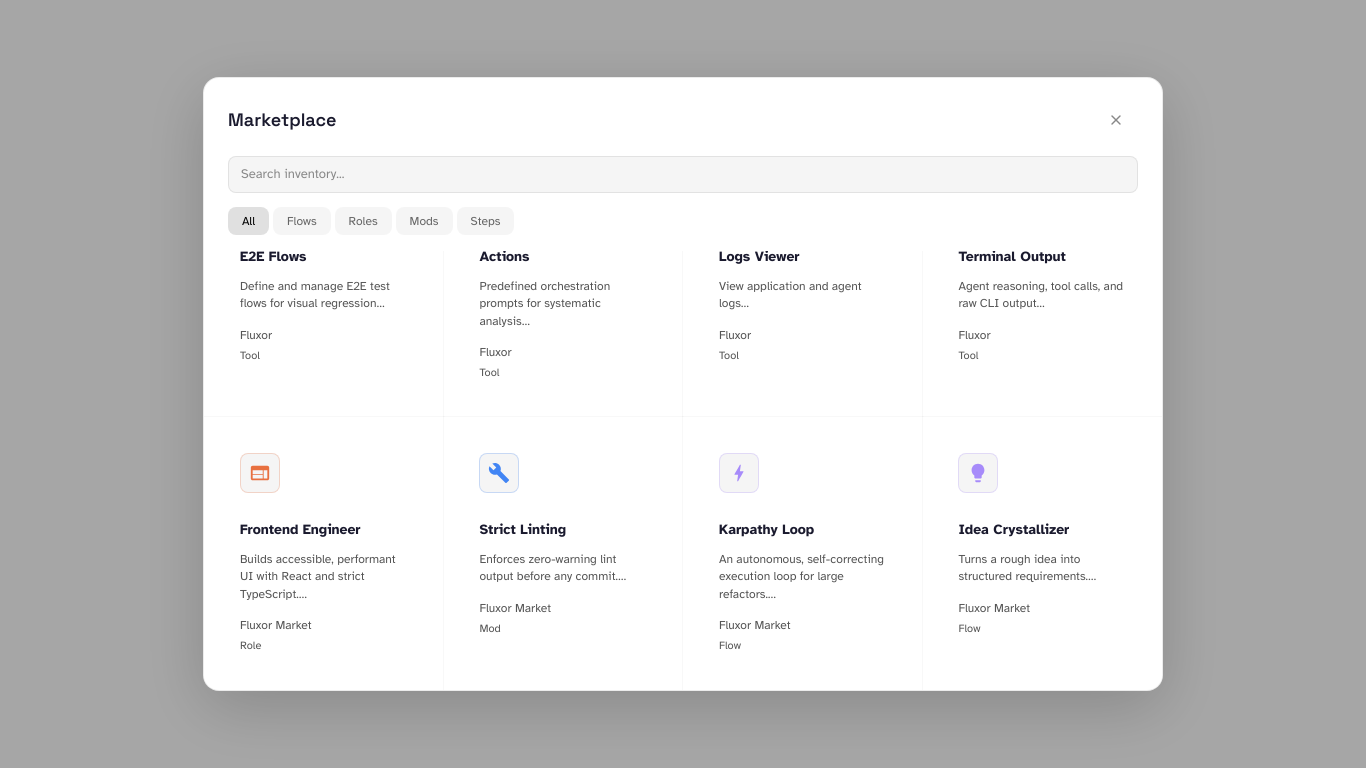
Test: MarketplaceApp — card click opens the product sheet › shows mod metadata (incompatibleWith / exclusiveGroup / domains)
The image size is (1366, 768).
(page scrolled)
Click the button with aria-label "View details for Strict Linting — Mod by Fluxor Market": (563, 554) x1=444 y1=417 x2=683 y2=690
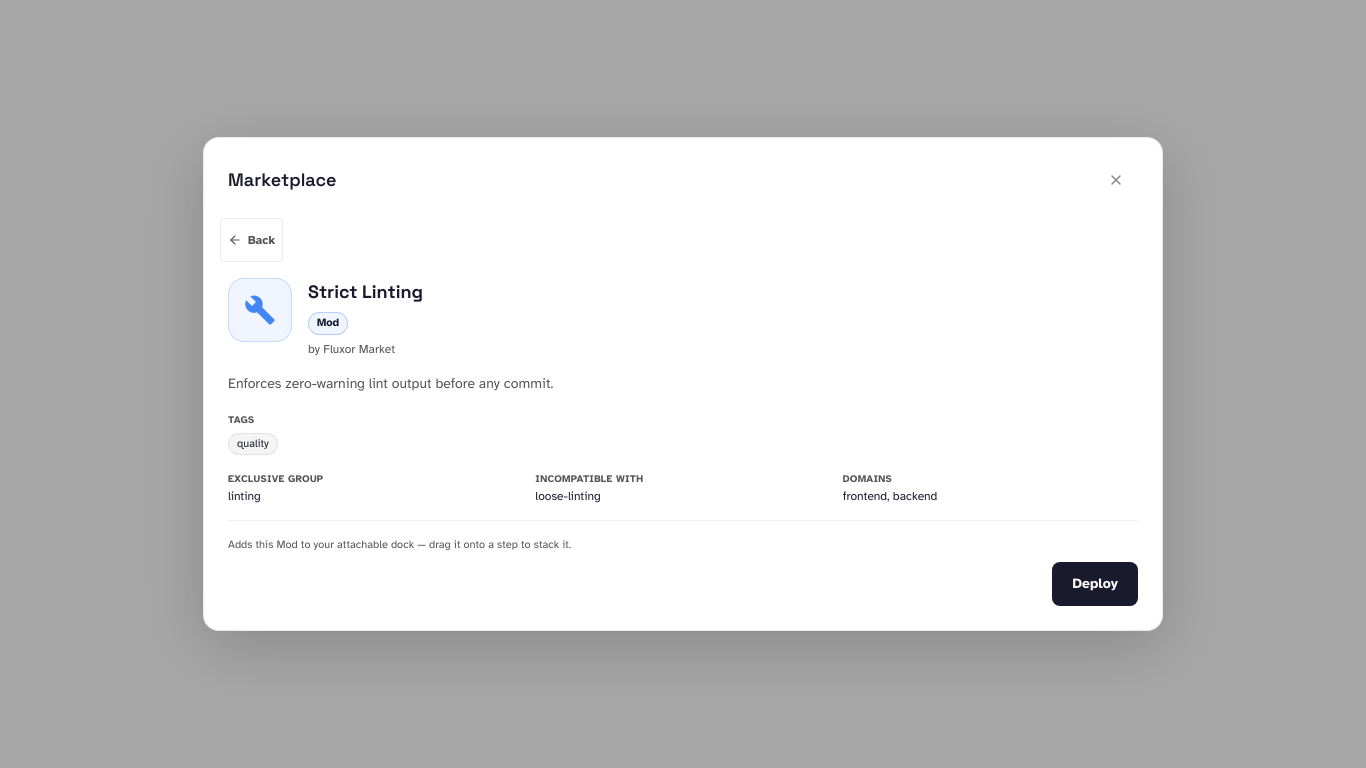
Expected: the text "linting" is shown, x1=228 y1=489 x2=261 y2=503
Expected: the text "loose-linting" is shown, x1=535 y1=489 x2=601 y2=503
Expected: the text "Domains" is shown, x1=843 y1=472 x2=892 y2=485
